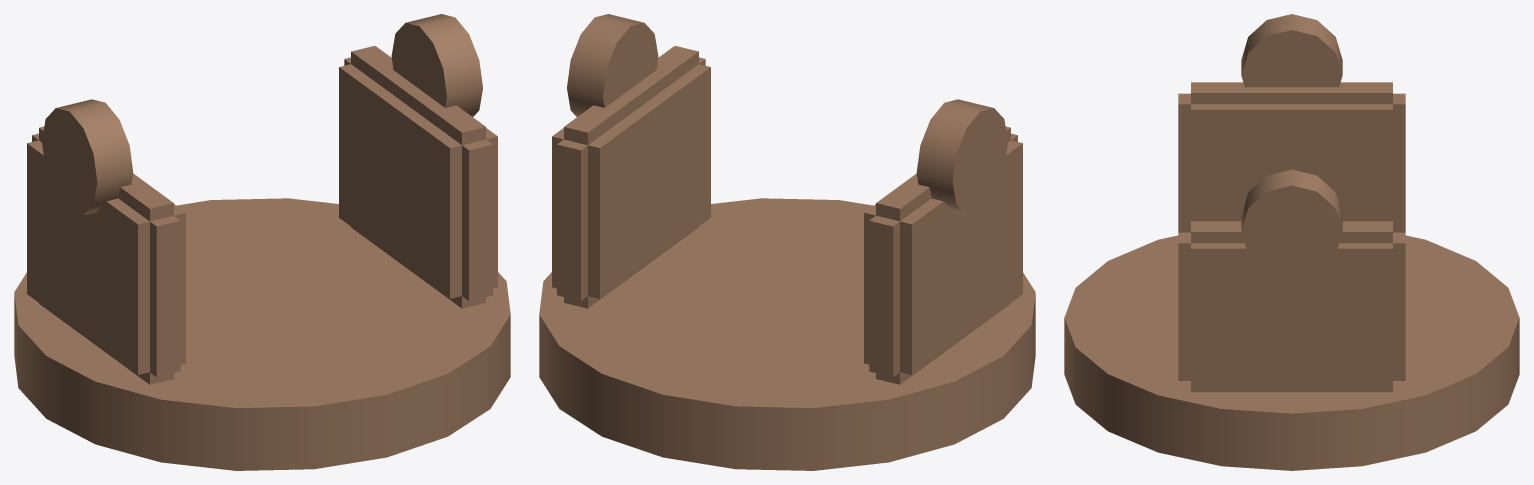
Rendered from flamethrower_mount.glb.
3 views of the same model, side by side, from view 1: azimuth 30°, elevation 25°; view 2: azimuth 150°, elevation 25°; view 3: azimuth 270°, elevation 25° (orthographic). The views are drawn at different scales.
Visible parts, largest first — view 1: flamethrower_mount; view 2: flamethrower_mount; view 3: flamethrower_mount.
Boxes of the visible parts, <box> form: flamethrower_mount: <box>14,14,510,470</box>; flamethrower_mount: <box>539,14,1035,470</box>; flamethrower_mount: <box>1064,14,1519,470</box>.
Size of the model in its own units: 0.36 by 0.24 by 0.36.
